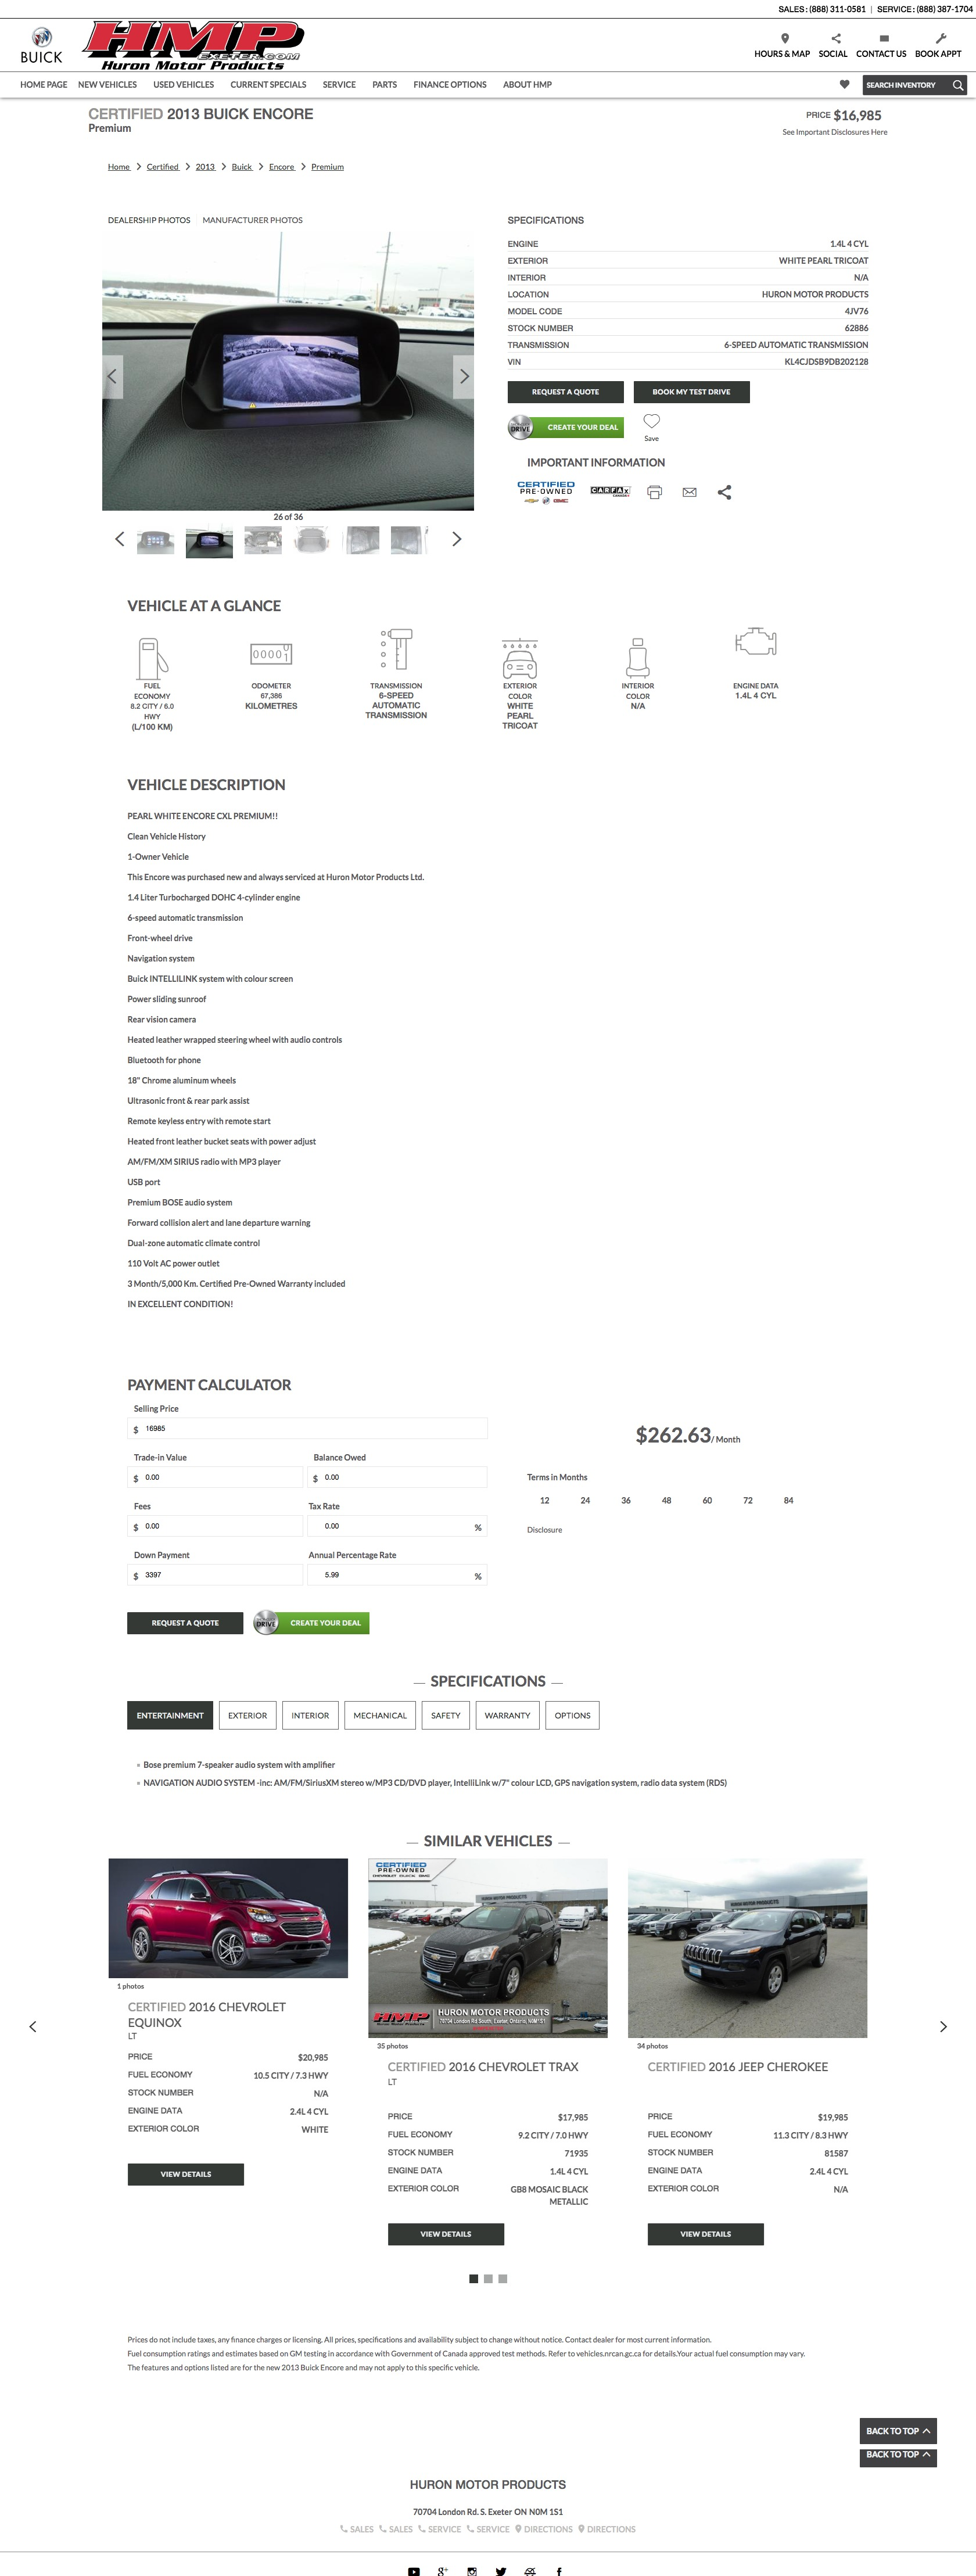car: (452, 532, 463, 549)
